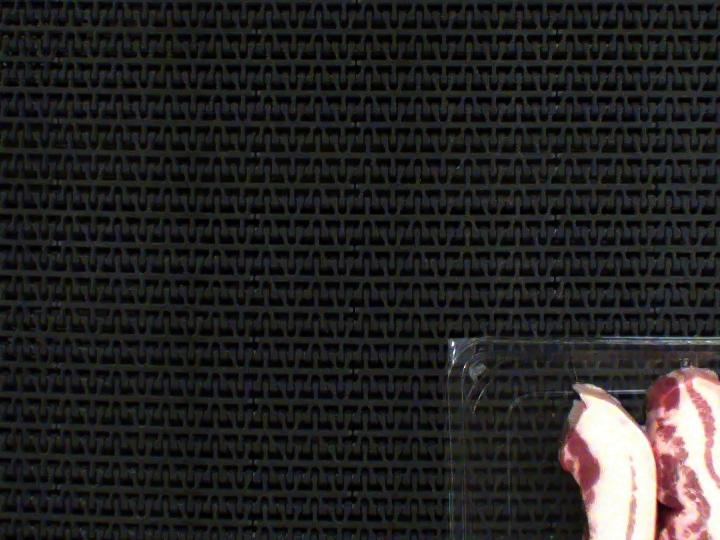packaging-error: (670, 351, 706, 371)
